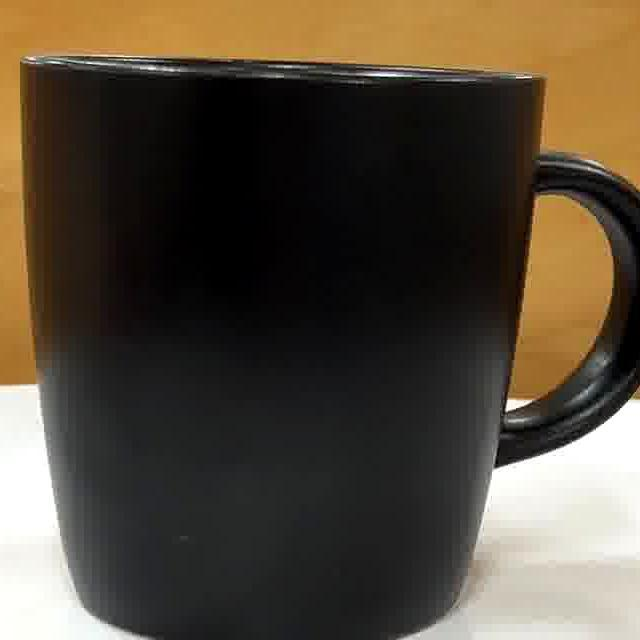cup: (28, 59, 640, 640)
